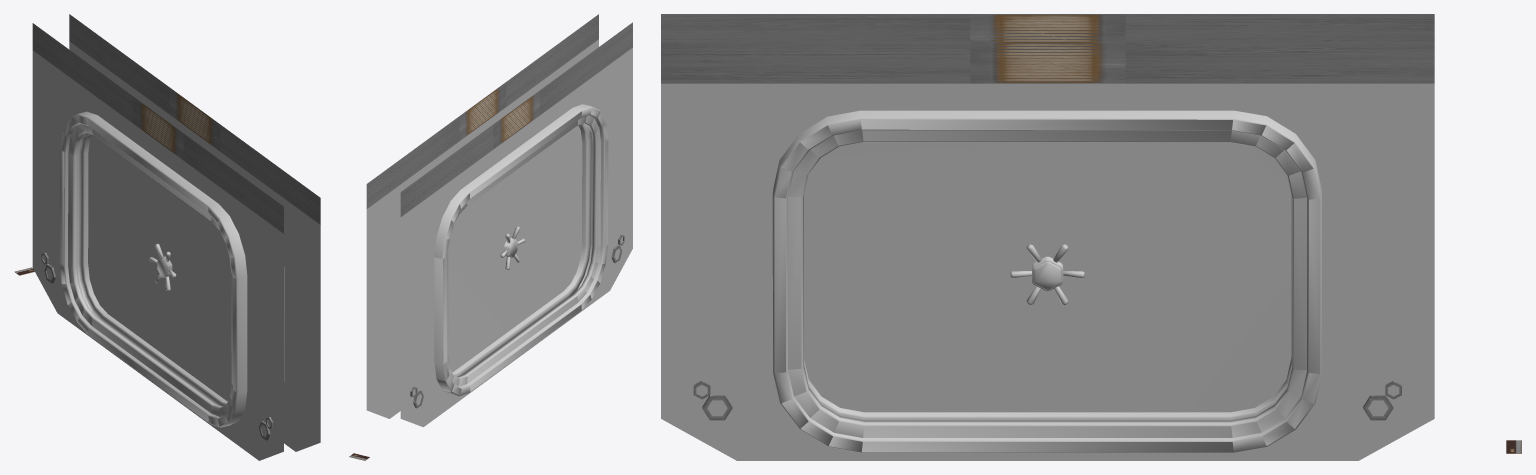
File: porton y tarjeta.FBX
3 views of the same model, side by side, from view 1: azimuth 30°, elevation 25°; view 2: azimuth 150°, elevation 25°; view 3: azimuth 270°, elevation 25° (orthographic). The views are drawn at different scales.
Parts seen in each view (by area): view 1: GreatDoorHole, GreatDoor; view 2: GreatDoorHole, GreatDoor; view 3: GreatDoorHole, GreatDoor.
Boxes of the visible parts, x1,y1,x2,y2 form: GreatDoorHole: (32,14,320,460); GreatDoor: (78,132,231,406); GreatDoorHole: (366,14,632,427); GreatDoor: (448,123,590,376); GreatDoorHole: (661,14,1434,460); GreatDoor: (804,142,1291,420).
Bounding box in the file's own units: 26.12 × 117 × 218.
